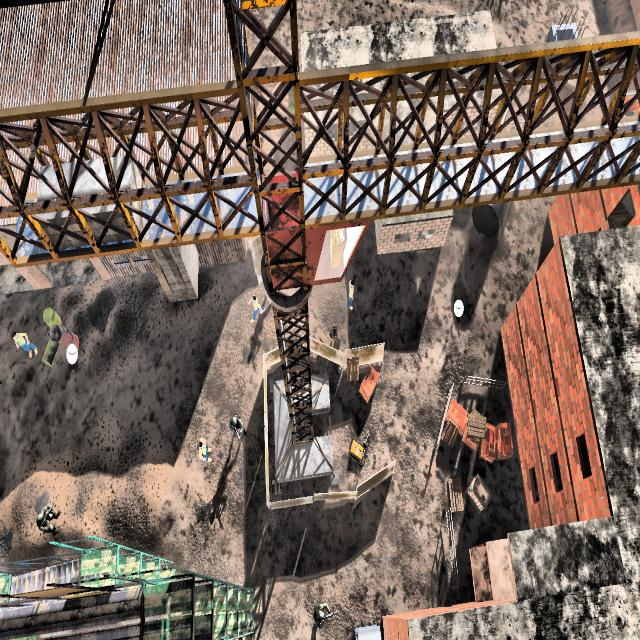bad: (30, 493, 60, 546), (224, 394, 250, 446), (306, 595, 336, 636)
good: (12, 321, 37, 368), (244, 288, 265, 330), (194, 424, 214, 468), (344, 273, 359, 320)
